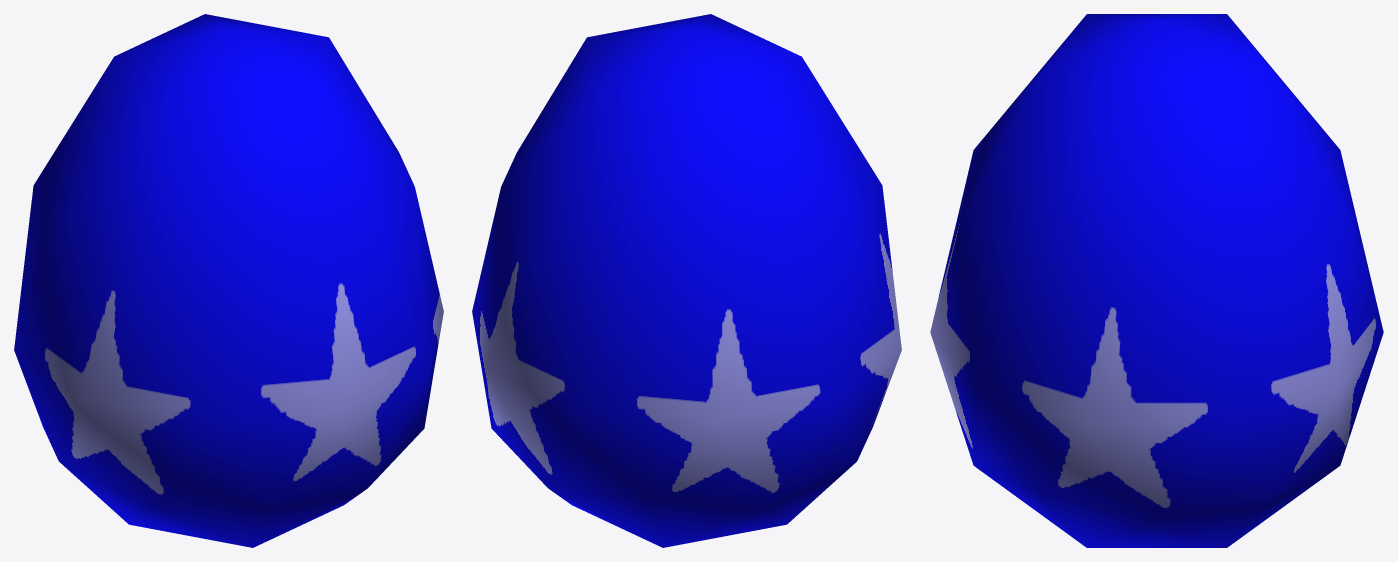
The model's file is egg_blue.glb.
3 renders of one model, left to right at view 1: azimuth 30°, elevation 25°; view 2: azimuth 150°, elevation 25°; view 3: azimuth 270°, elevation 25°, orthographic. The views are drawn at different scales.
Parts seen in each view (by area): view 1: mesh_egg; view 2: mesh_egg; view 3: mesh_egg.
Part boxes in pixels (x1,y1,x2,y2): mesh_egg: (14, 14, 443, 547); mesh_egg: (472, 14, 901, 547); mesh_egg: (930, 14, 1383, 547).
Bounding box in the file's own units: 0.7608 × 1 × 0.8.
Materials: 1 (1 with a texture image).
